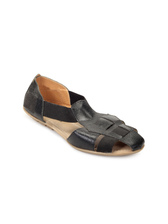shoes: (23, 68, 149, 160)
